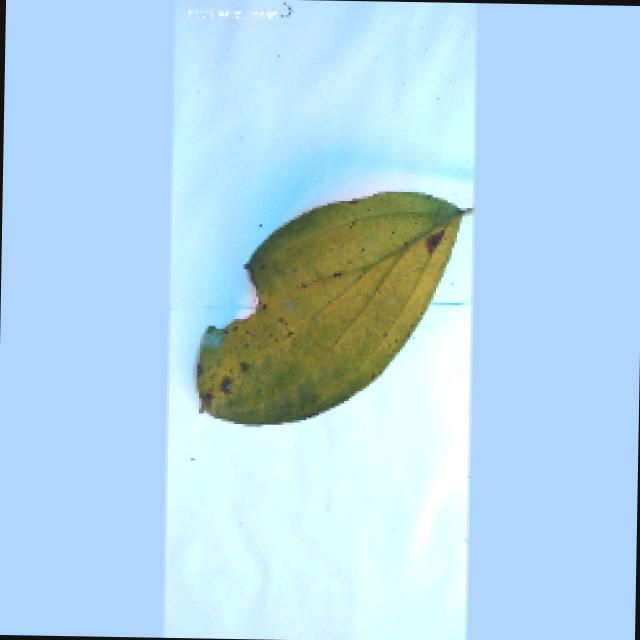slow-decline: (193, 188, 477, 435)
